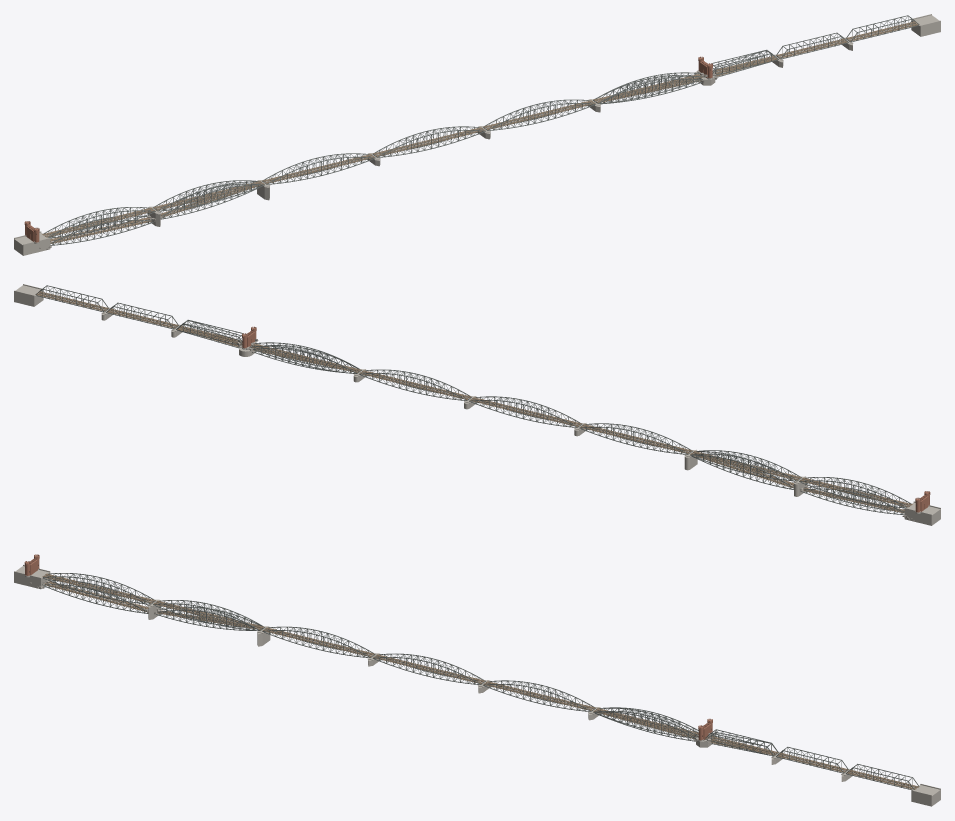
Rendered from bridge_rail_1891_1912.glb.
3 views of the same model, one above another, from view 1: azimuth 30°, elevation 25°; view 2: azimuth 150°, elevation 25°; view 3: azimuth 330°, elevation 25° (orthographic).
Parts seen in each view (by area): view 1: rail_span_04, rail_span_03, rail_span_05, rail_span_02, rail_span_01, rail_span_06, rail_span_01_collapsed, rail_span_06_collapsed, rail_span_02_collapsed, rail_span_08, rail_span_09, rail_span_07 (+1 smaller); view 2: rail_span_04, rail_span_03, rail_span_05, rail_span_01, rail_span_06, rail_span_02, rail_span_02_collapsed, rail_span_01_collapsed, rail_span_06_collapsed, rail_span_08, rail_span_09, rail_span_07 (+2 smaller); view 3: rail_span_04, rail_span_05, rail_span_03, rail_span_02, rail_span_01, rail_span_01_collapsed, rail_span_06, rail_span_02_collapsed, rail_span_06_collapsed, rail_span_08, rail_span_09, rail_span_07.
Boxes of the visible parts, x1,y1,x2,y2 form: rail_span_04: [372, 126, 485, 157]; rail_span_03: [262, 153, 375, 184]; rail_span_05: [483, 99, 595, 130]; rail_span_02: [153, 180, 264, 211]; rail_span_01: [42, 207, 155, 238]; rail_span_06: [593, 72, 705, 103]; rail_span_01_collapsed: [49, 215, 153, 245]; rail_span_06_collapsed: [593, 75, 701, 104]; rail_span_02_collapsed: [160, 181, 264, 219]; rail_span_08: [776, 32, 848, 59]; rail_span_09: [845, 15, 919, 42]; rail_span_07: [711, 49, 778, 75]; rail_span_04: [469, 396, 582, 427]; rail_span_03: [579, 423, 692, 454]; rail_span_05: [359, 369, 471, 400]; rail_span_01: [799, 477, 912, 508]; rail_span_06: [249, 342, 361, 373]; rail_span_02: [690, 450, 801, 481]; rail_span_02_collapsed: [690, 451, 794, 489]; rail_span_01_collapsed: [801, 486, 904, 514]; rail_span_06_collapsed: [253, 345, 361, 373]; rail_span_08: [106, 302, 178, 329]; rail_span_09: [35, 285, 109, 312]; rail_span_07: [176, 319, 243, 345]; rail_span_04: [372, 653, 485, 684]; rail_span_05: [483, 680, 595, 711]; rail_span_03: [262, 626, 375, 657]; rail_span_02: [153, 600, 265, 630]; rail_span_01: [42, 573, 155, 604]; rail_span_01_collapsed: [43, 580, 148, 613]; rail_span_06: [593, 707, 698, 738]; rail_span_02_collapsed: [155, 606, 262, 630]; rail_span_06_collapsed: [593, 707, 697, 741]; rail_span_08: [776, 746, 848, 773]; rail_span_09: [846, 763, 919, 790]; rail_span_07: [705, 729, 778, 756].
Size of the model in its own units: 1087 by 31.07 by 26.75.
